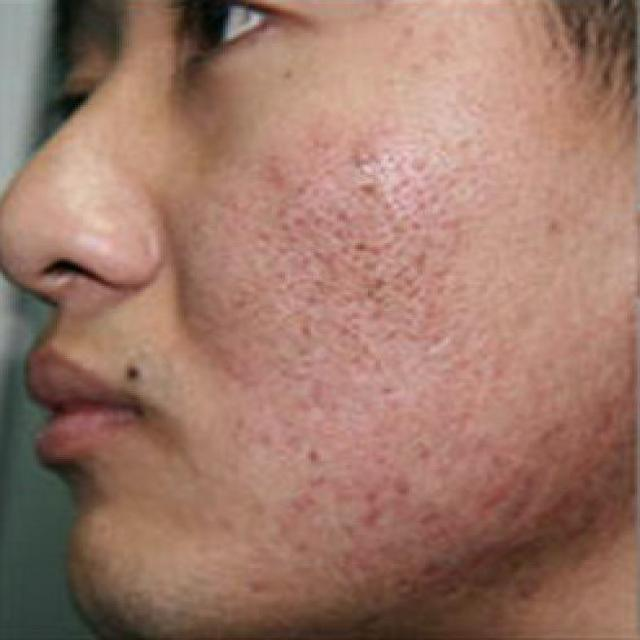pustule: (395, 511, 454, 557), (283, 497, 338, 544), (343, 490, 399, 533), (479, 484, 534, 526), (248, 148, 300, 186), (550, 486, 586, 524), (265, 190, 302, 224), (350, 162, 383, 195), (354, 138, 386, 170)
